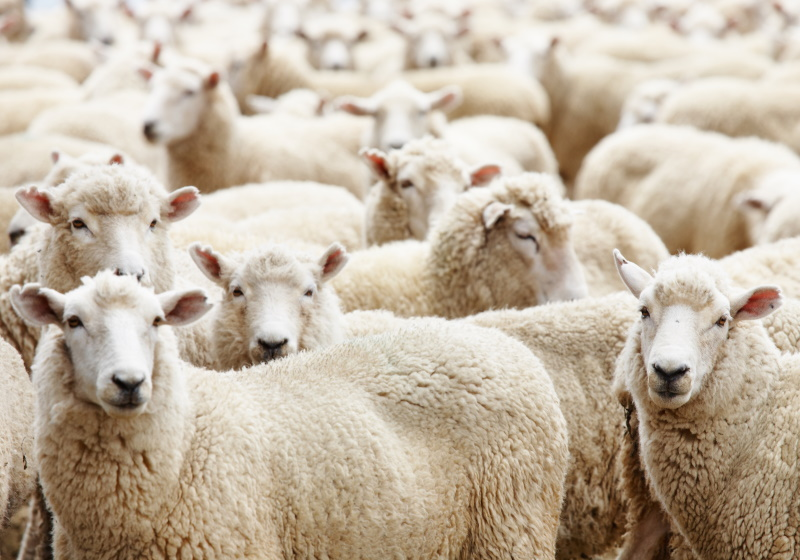koyun: (13, 281, 577, 558), (20, 284, 231, 537), (620, 263, 800, 538), (191, 246, 364, 372), (20, 175, 196, 286)
